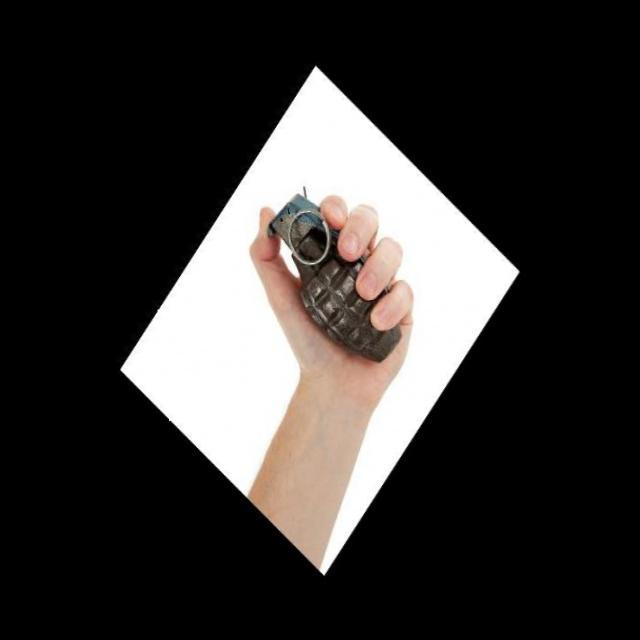grenade: (262, 173, 410, 383)
